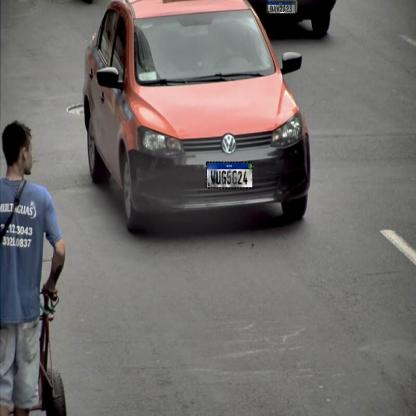PlacaM: (206, 162, 253, 188), (268, 1, 296, 14)
